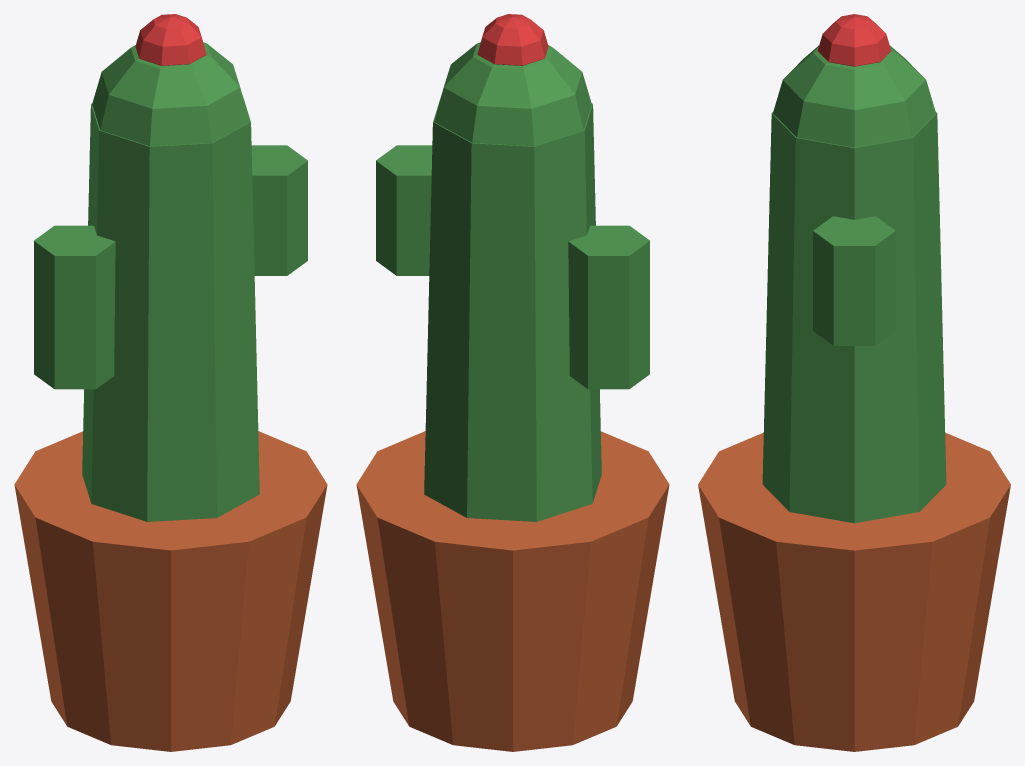
File: potted_plant_2.glb
3 renders of one model, left to right at view 1: azimuth 30°, elevation 25°; view 2: azimuth 150°, elevation 25°; view 3: azimuth 270°, elevation 25°, orthographic.
Parts seen in each view (by area): view 1: pot_pot_terracotta, body_cactus, arm_l_cactus, top_cactus, arm_r_cactus, flower_cactus_flower; view 2: pot_pot_terracotta, body_cactus, arm_l_cactus, top_cactus, arm_r_cactus, flower_cactus_flower; view 3: pot_pot_terracotta, body_cactus, top_cactus, arm_r_cactus, flower_cactus_flower.
Boxes of the visible parts, x1,y1,x2,y2 form: pot_pot_terracotta: (14, 431, 327, 751); body_cactus: (82, 96, 259, 521); arm_l_cactus: (34, 225, 115, 389); top_cactus: (92, 42, 249, 146); arm_r_cactus: (251, 145, 307, 275); flower_cactus_flower: (135, 14, 206, 65); pot_pot_terracotta: (356, 431, 669, 751); body_cactus: (424, 96, 601, 521); arm_l_cactus: (568, 225, 649, 389); top_cactus: (434, 42, 591, 146); arm_r_cactus: (376, 145, 432, 275); flower_cactus_flower: (477, 14, 548, 65); pot_pot_terracotta: (698, 432, 1010, 751); body_cactus: (762, 112, 946, 523); top_cactus: (773, 45, 935, 147); arm_r_cactus: (813, 216, 895, 345); flower_cactus_flower: (817, 14, 891, 66).
Size of the model in its own units: 0.34 by 0.82 by 0.34.
